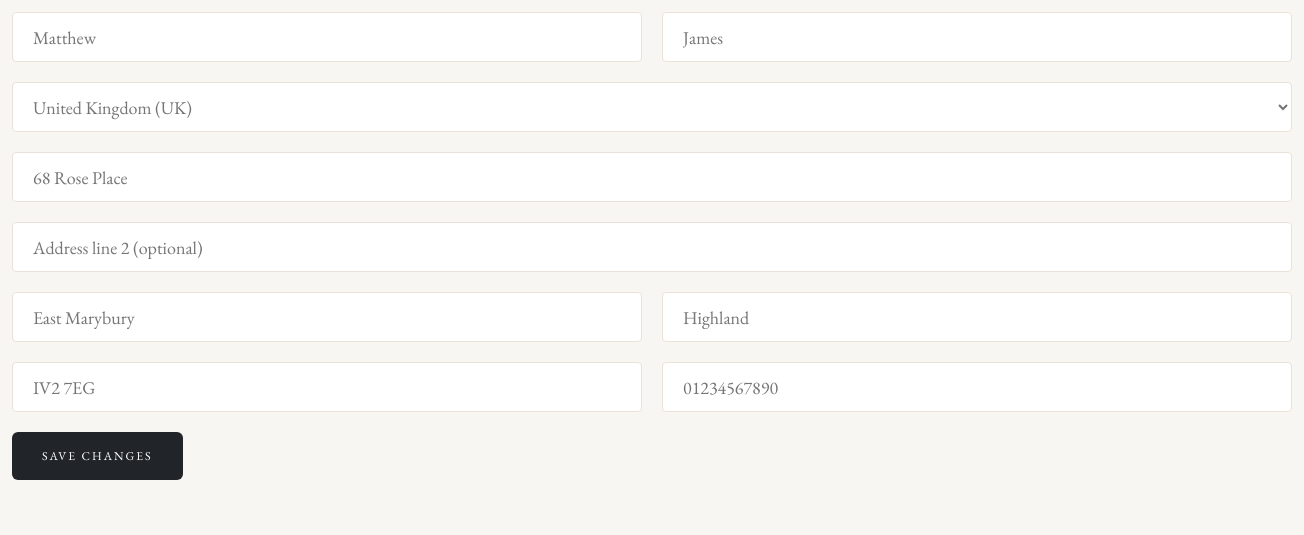
EditForm component › shows error messages for missing shipping address fields
This screenshot has width=1304, height=535.
Clear the 1st field named "First name" at (327, 37), box [12,12,642,62]
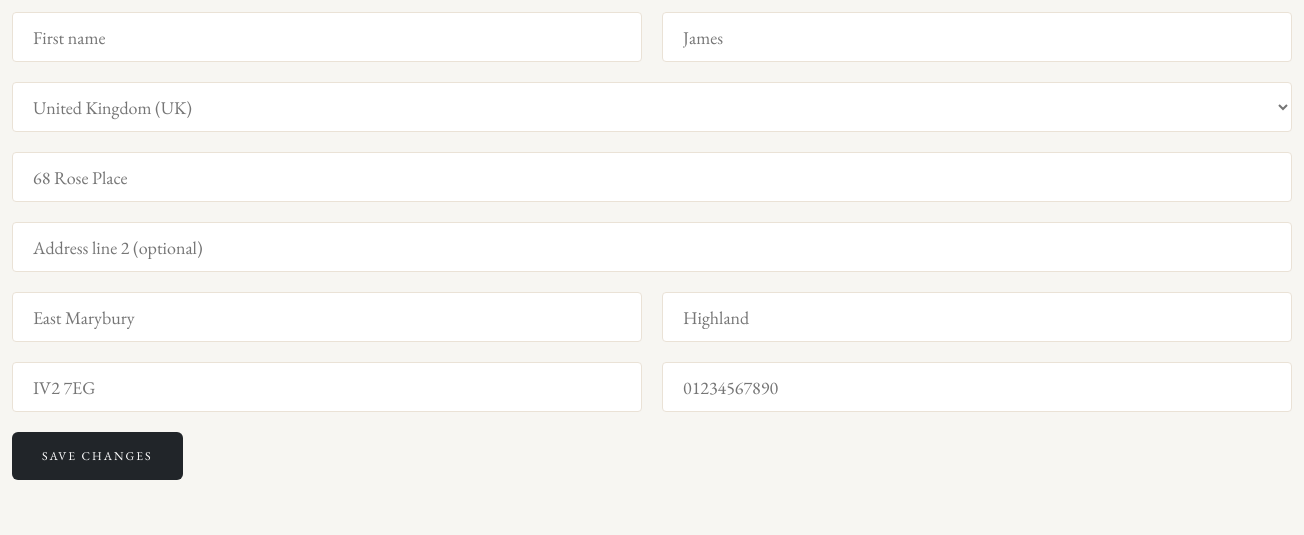
Clear the 1st field named "Last name" at (977, 37), box [662,12,1292,62]
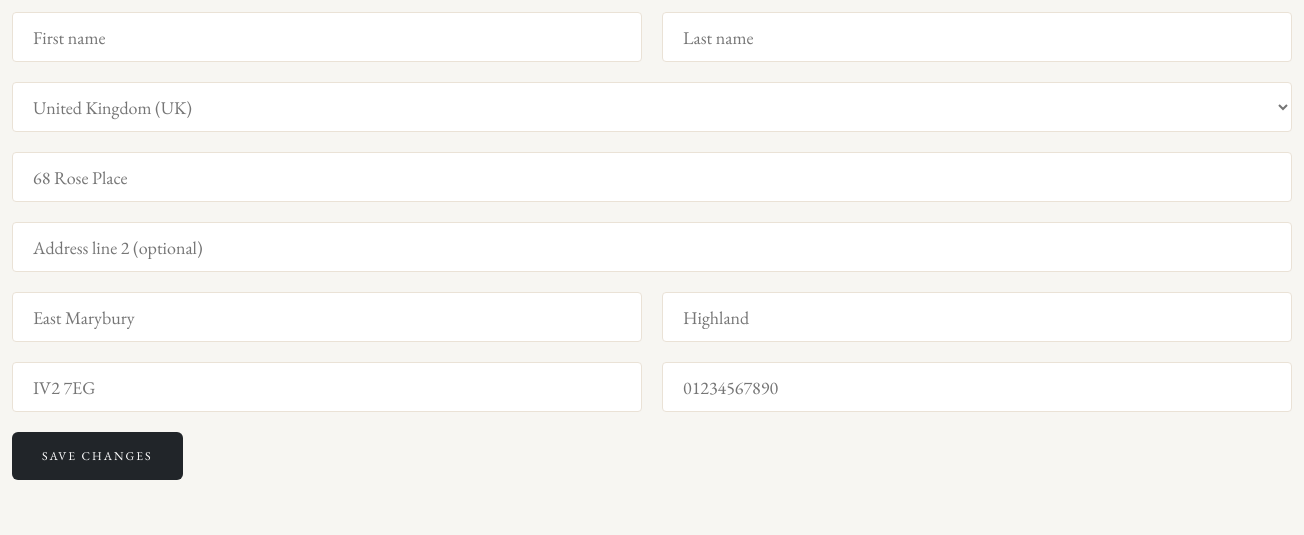
Click the button "Save changes".
click(97, 456)  # box [12,432,183,480]
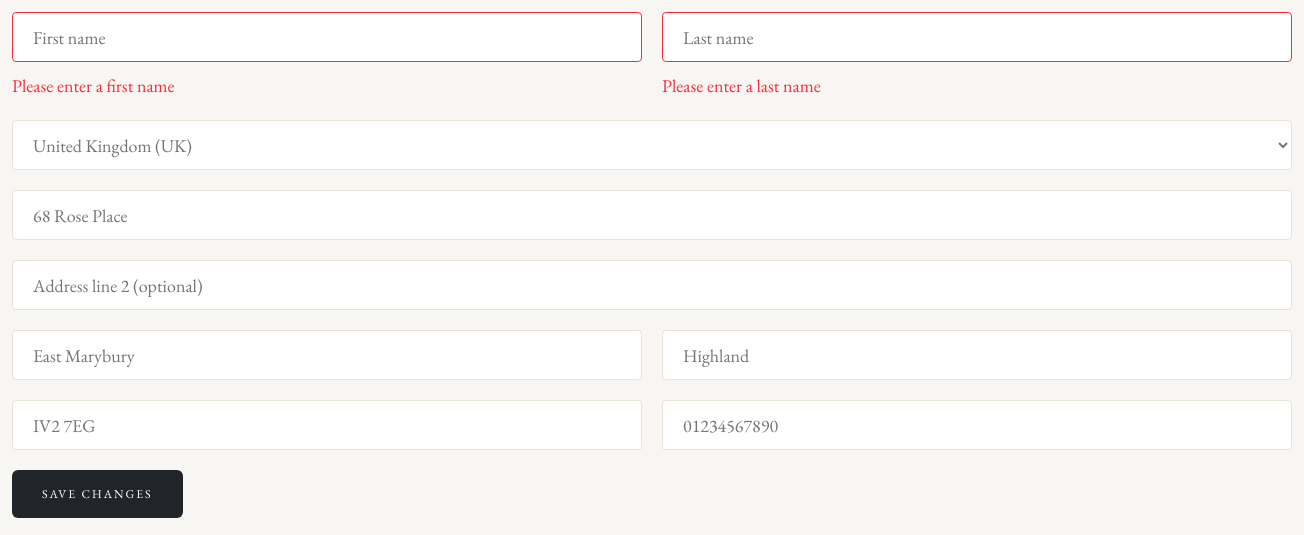
Expected: the text "Please enter a first name" is shown, [12,74,175,97]
Expected: the text "Please enter a last name" is shown, [662,74,821,97]
